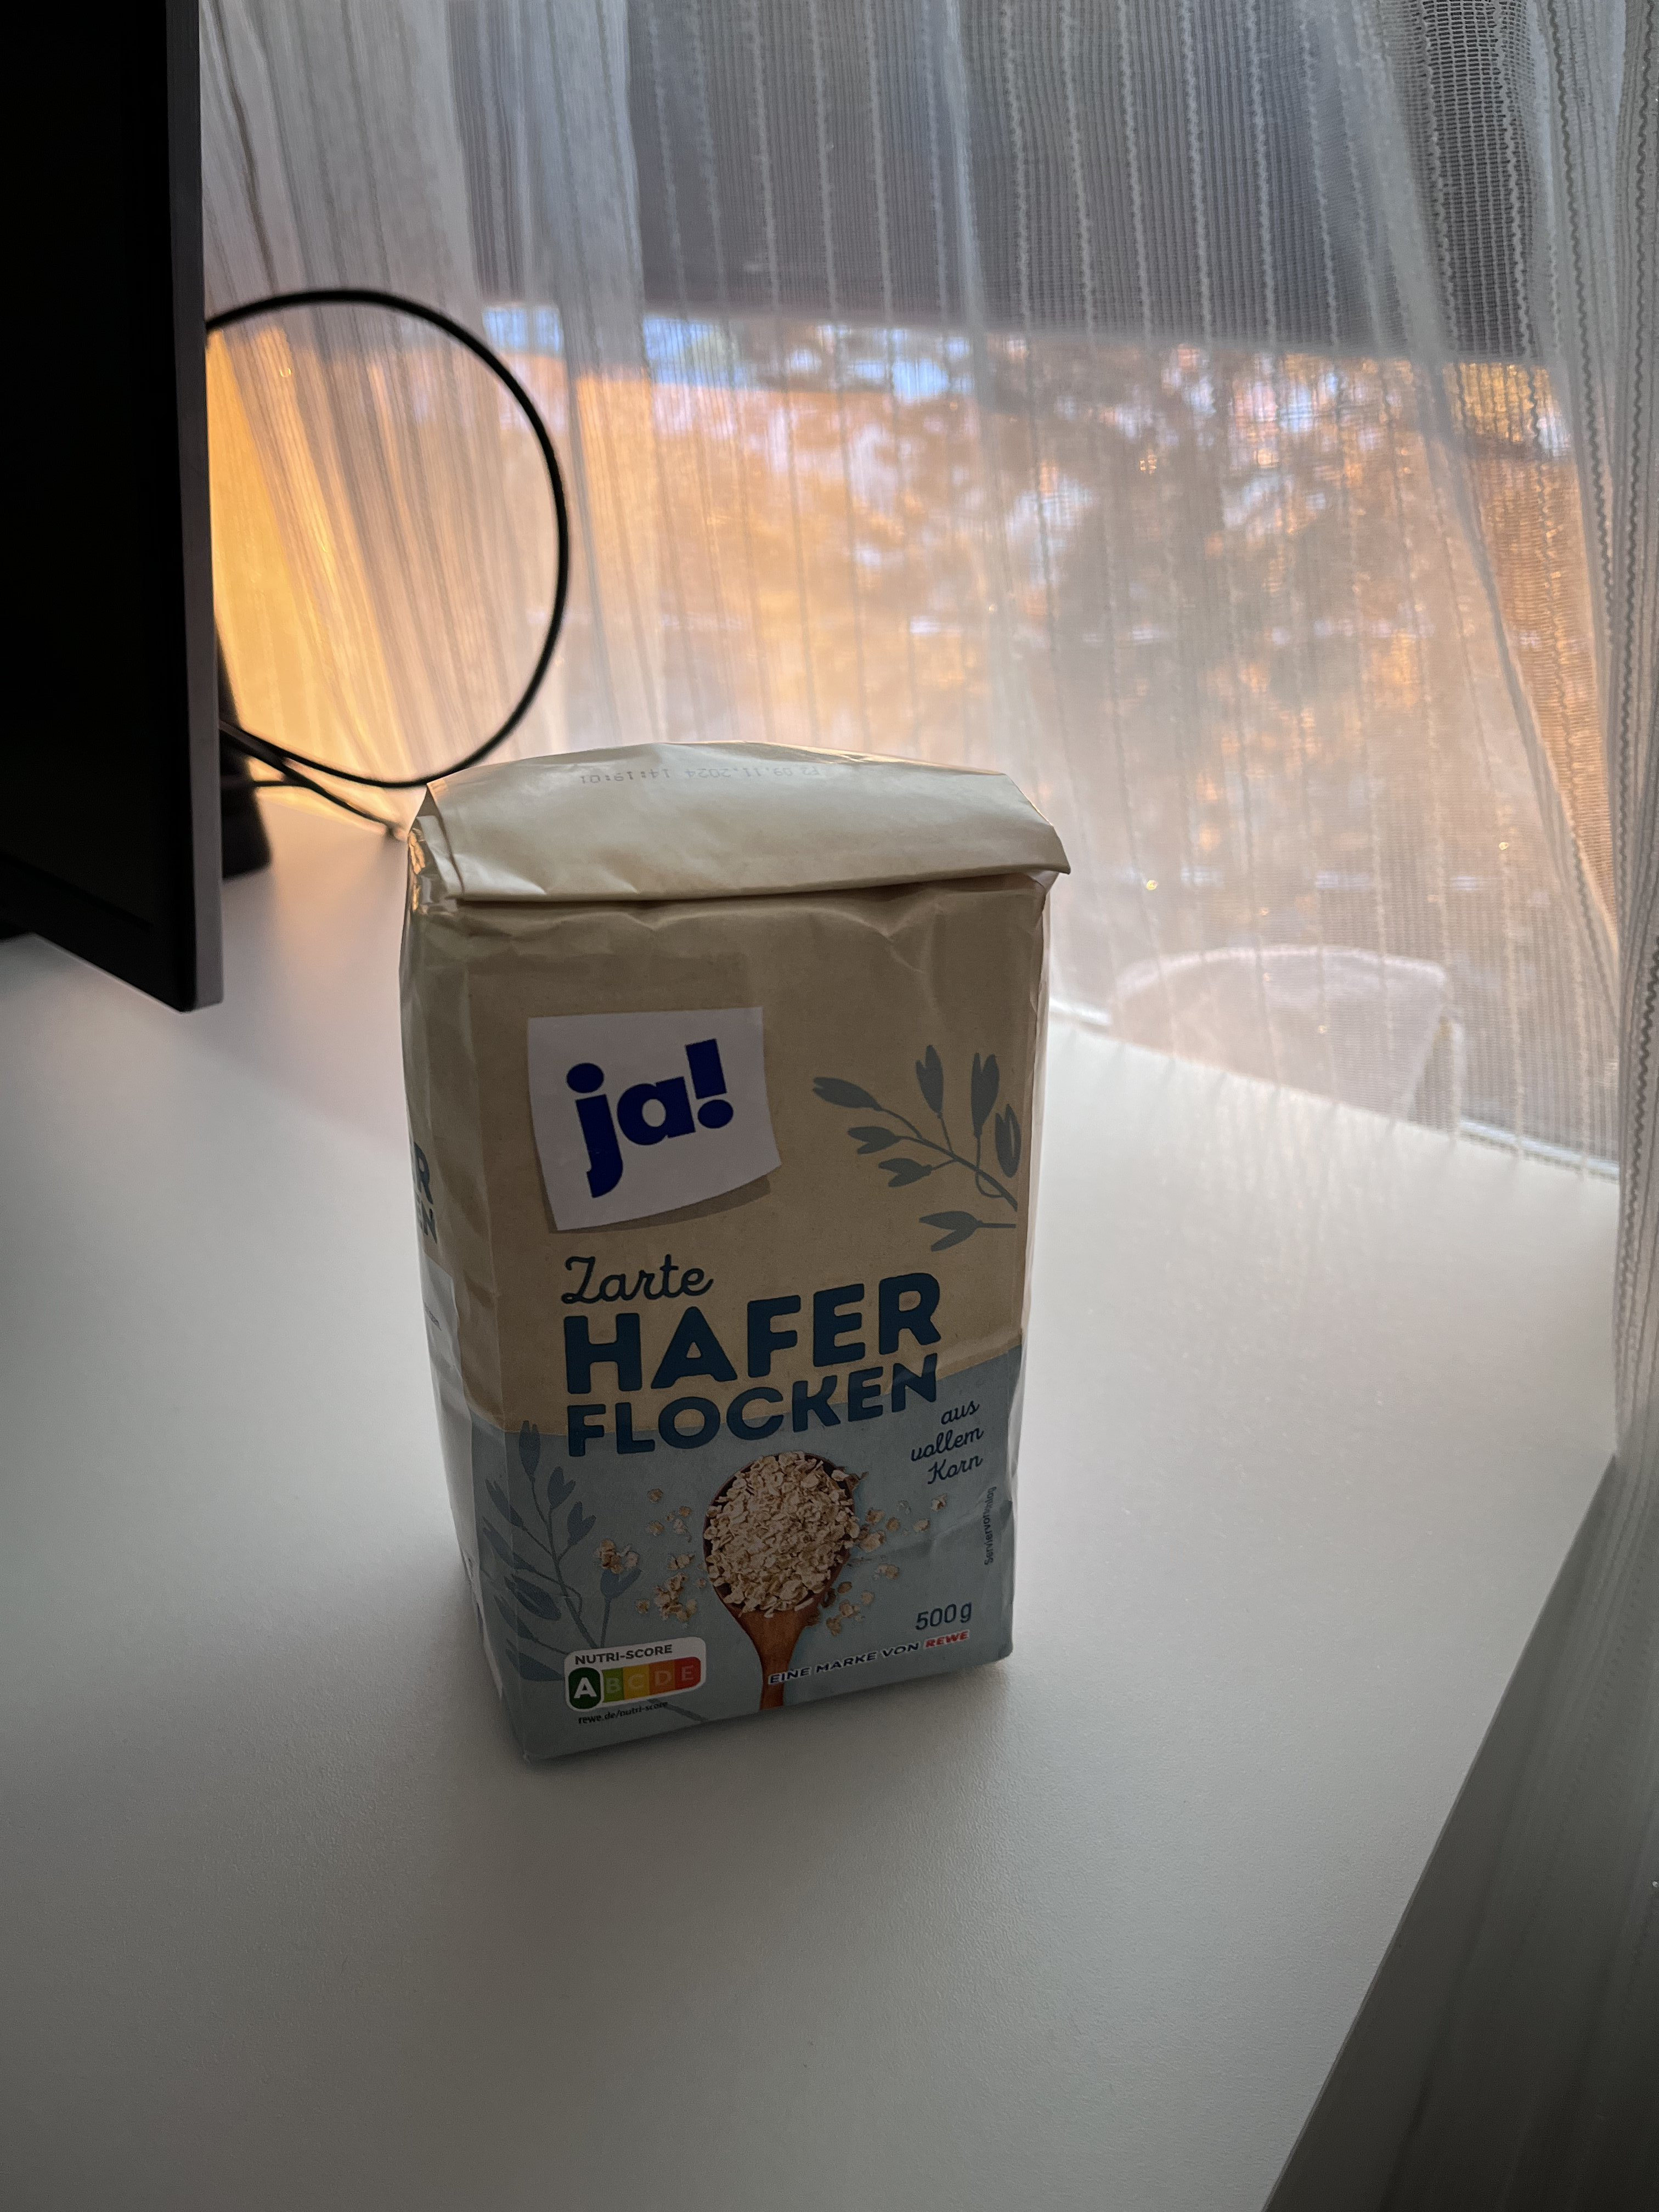haferflocken_ja: (397, 744, 1072, 1766)
